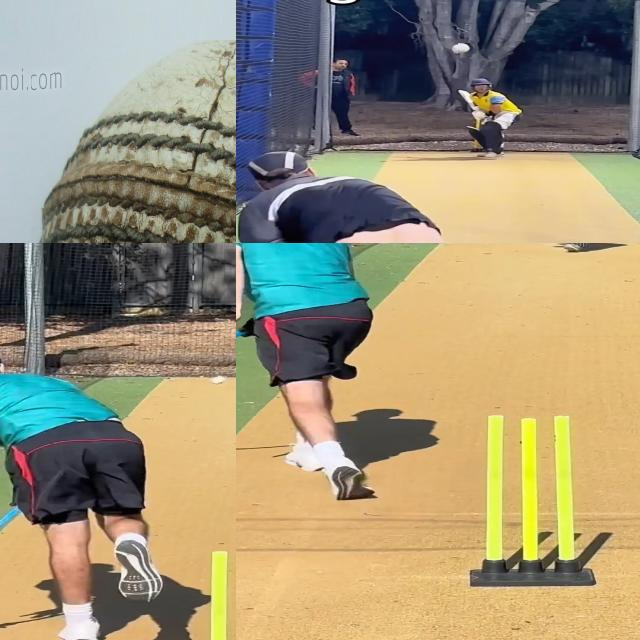Cricket ball: (31, 39, 236, 243), (450, 43, 471, 55), (210, 375, 227, 386)
Stumps: (463, 412, 601, 590)
